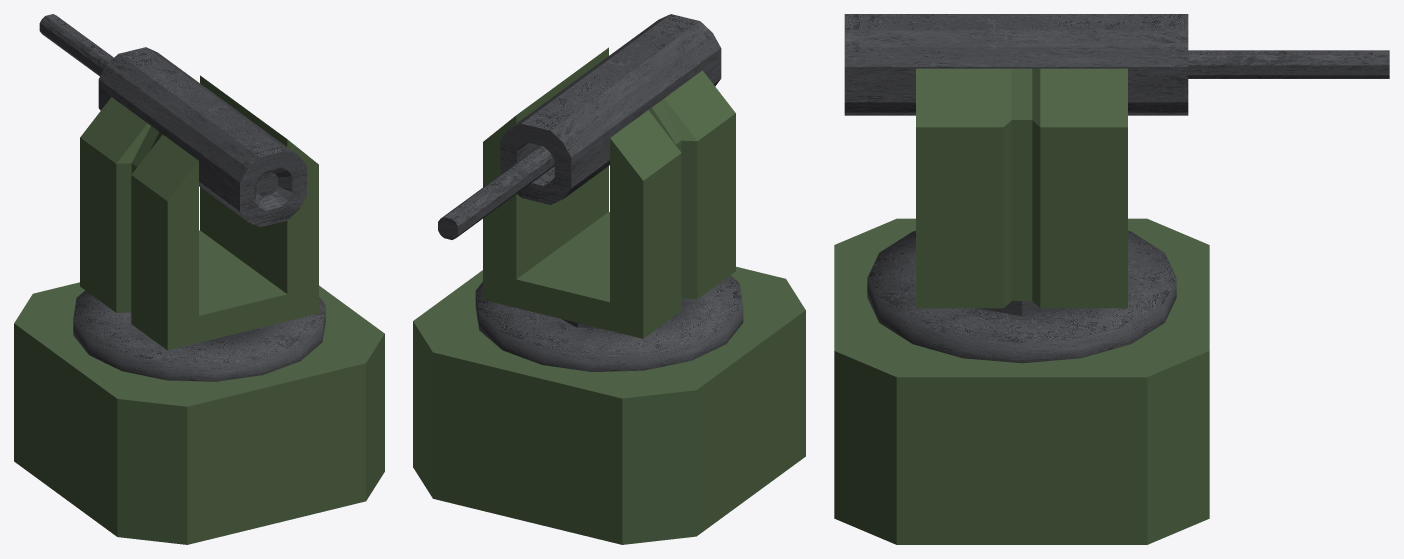
Rendered from turret.glb.
The picture shows the model from 3 angles, left to right: view 1: azimuth 30°, elevation 25°; view 2: azimuth 150°, elevation 25°; view 3: azimuth 270°, elevation 25°; orthographic projection. The views are drawn at different scales.
Visible parts, largest first — view 1: Turret Base, Turret, Gun; view 2: Turret Base, Turret, Gun; view 3: Turret Base, Turret, Gun.
Boxes of the visible parts, x1,y1,x2,y2 form: Turret Base: (14, 282, 384, 544); Turret: (80, 75, 318, 350); Gun: (39, 14, 306, 227); Turret Base: (413, 266, 805, 544); Turret: (483, 47, 735, 338); Gun: (438, 14, 721, 239); Turret Base: (834, 218, 1209, 544); Turret: (916, 68, 1127, 308); Gun: (844, 14, 1389, 115).
Size of the model in its own units: 0.4791 by 0.626 by 0.709.
2 materials, 1 textured.
